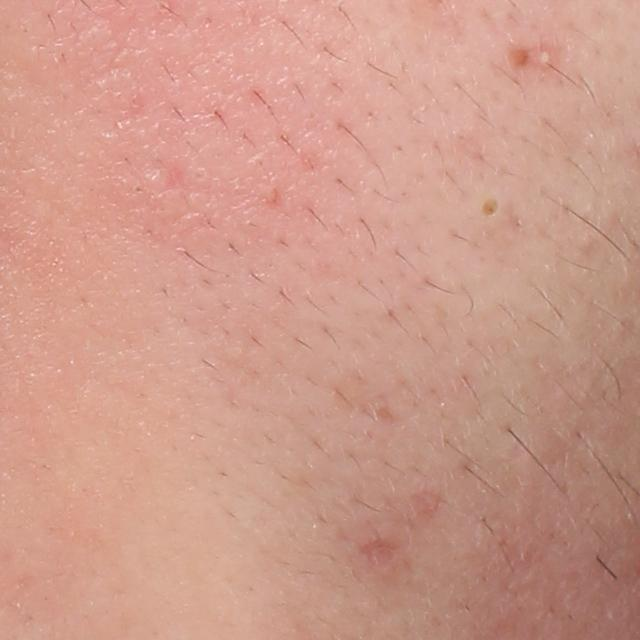atrophic_scar: (355, 534, 406, 570)
comedo: (476, 195, 502, 224)
